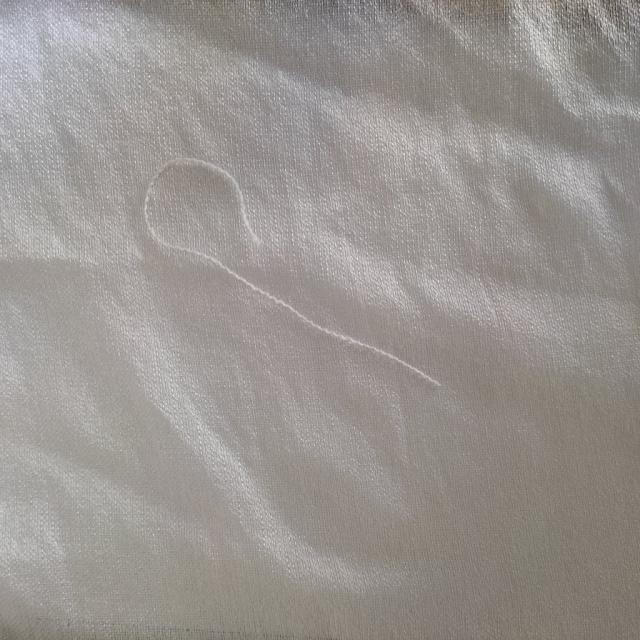Thread: (143, 156, 444, 388)
